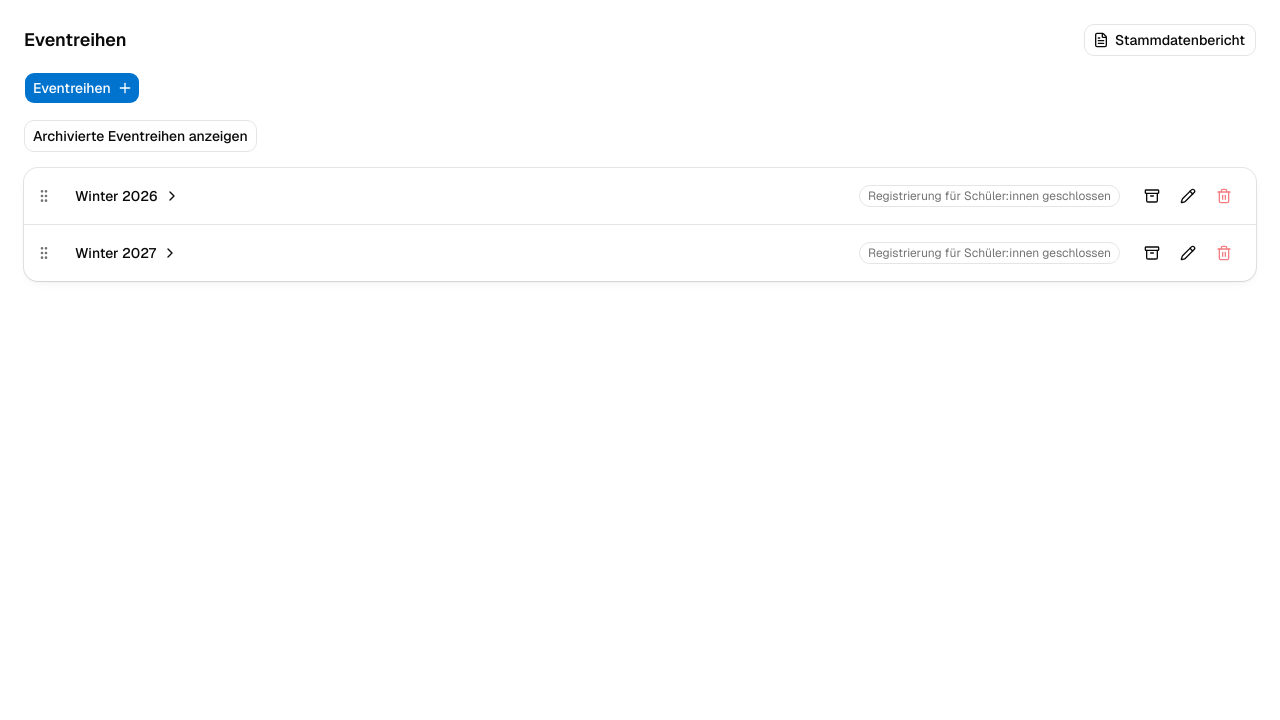
Test: EventSeriesView — deleting › closes the dialog once the event series is gone
This screenshot has width=1280, height=720.
Click the button "Archivierte Eventreihen anzeigen" at (140, 136), box [31, 126, 250, 146]
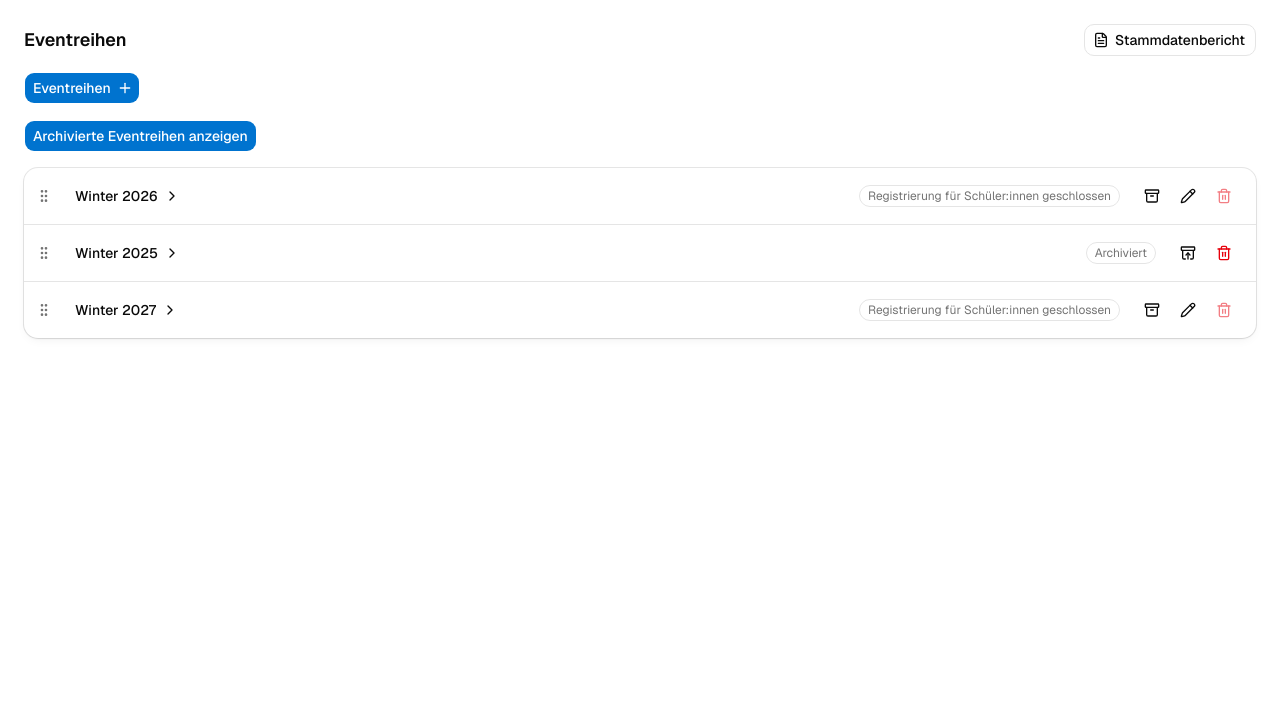
Click the button named "Eventreihe Winter 2025 löschen" at (1224, 253), box [1208, 237, 1240, 269]
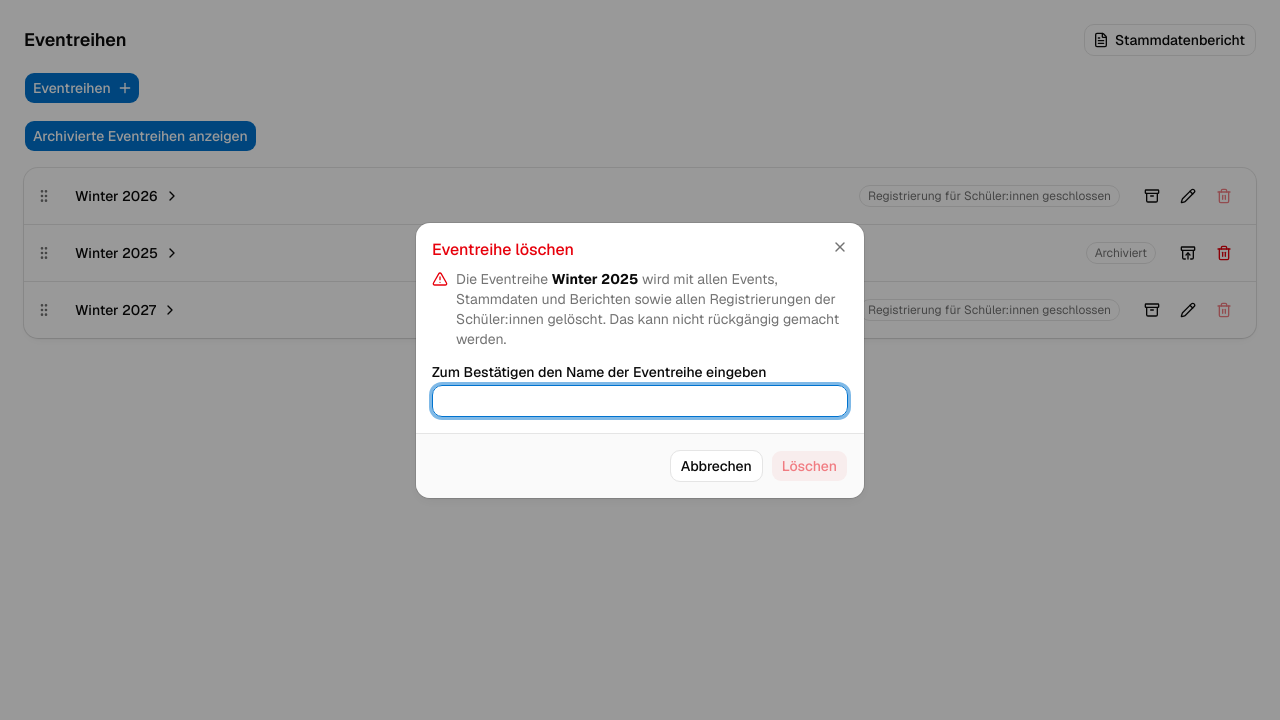
Type "Winter 2025" into the field labelled "Zum Bestätigen den Name der Eventreihe eingeben" at (640, 400), box [432, 384, 848, 416]
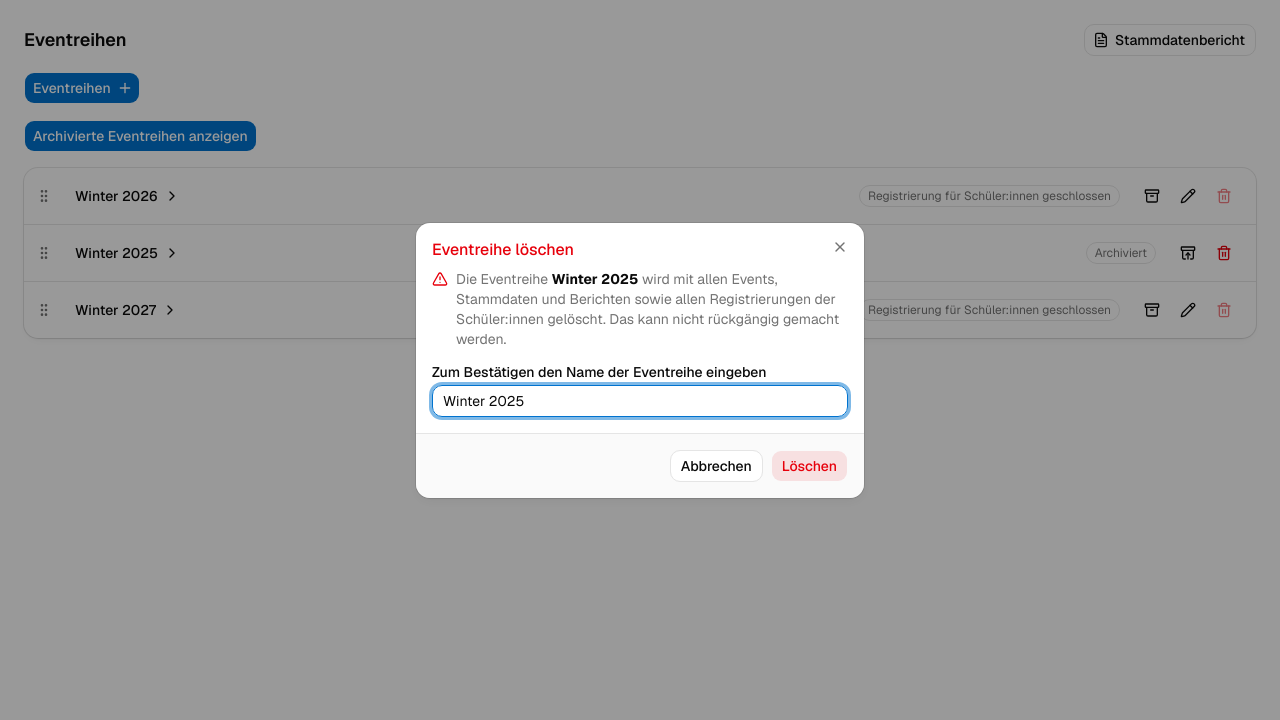
Click the button "Löschen" at (809, 466), box [771, 450, 848, 482]
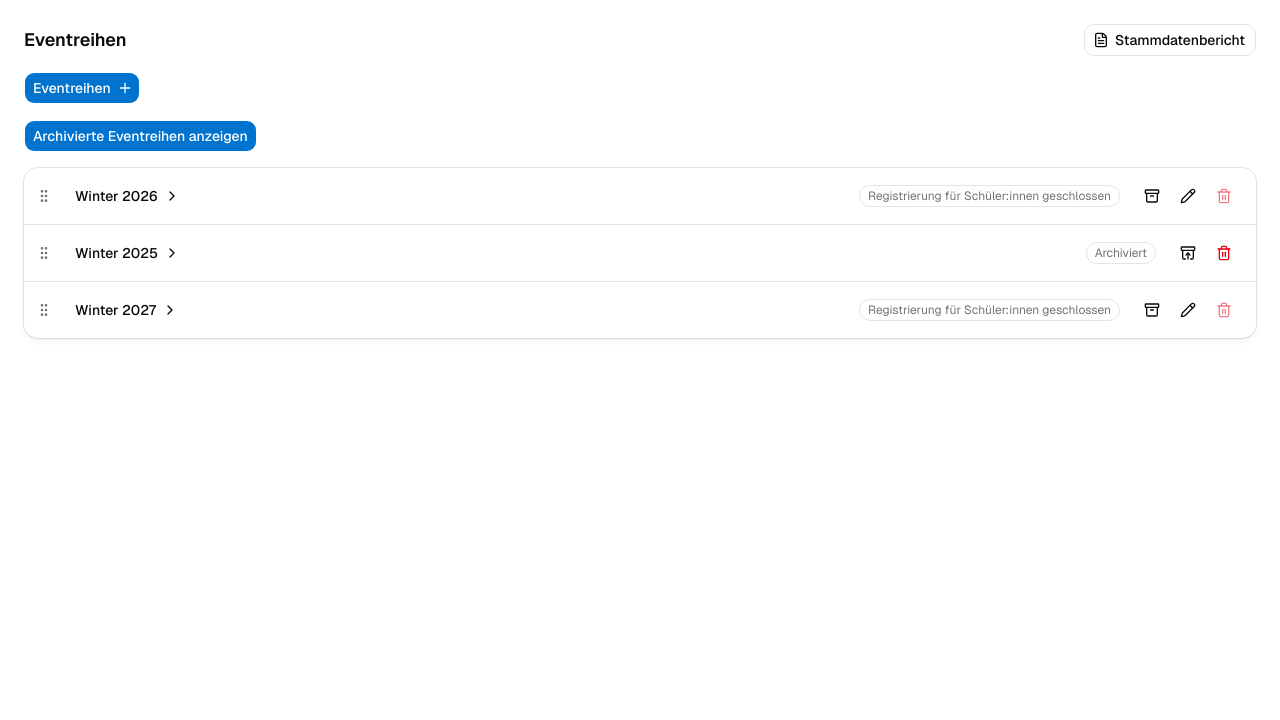
Result: the dialog is gone
